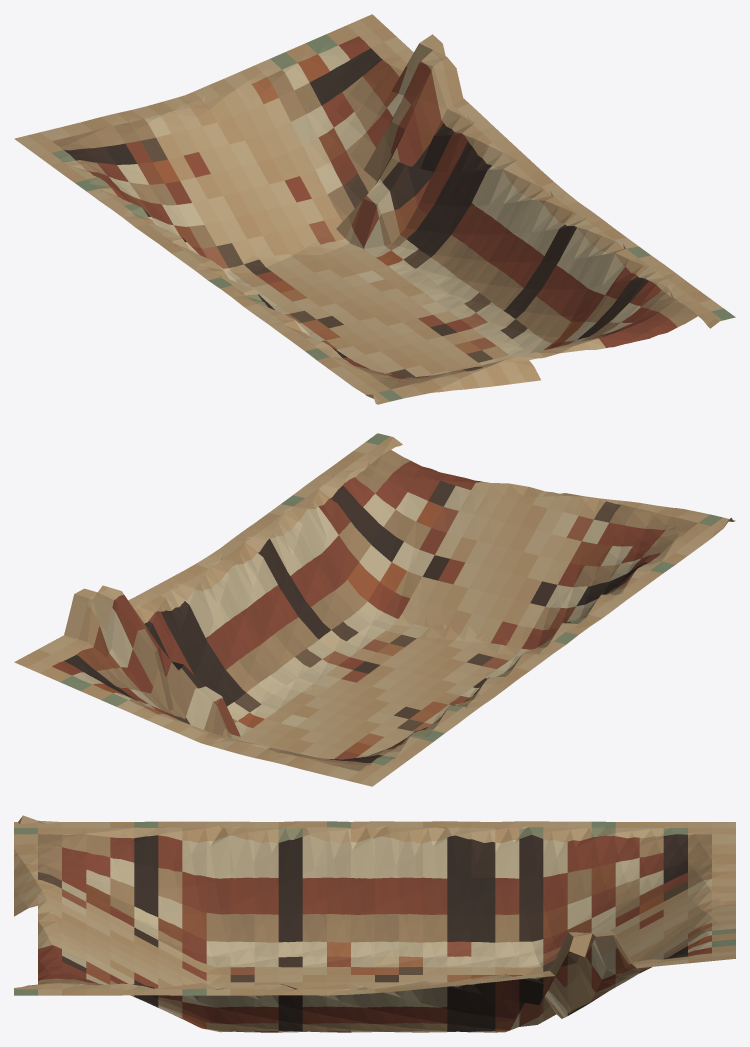
Rendered from liner_dump_wash_1.glb.
3 renders of one model, top to bottom at view 1: azimuth 30°, elevation 25°; view 2: azimuth 150°, elevation 25°; view 3: azimuth 270°, elevation 25°, orthographic.
Parts seen in each view (by area): view 1: liner_dump_wash_1_body; view 2: liner_dump_wash_1_body; view 3: liner_dump_wash_1_body.
Boxes of the visible parts, left/top/right/bottom form: liner_dump_wash_1_body: left=14, top=14, right=735, bottom=404; liner_dump_wash_1_body: left=14, top=433, right=735, bottom=786; liner_dump_wash_1_body: left=14, top=815, right=735, bottom=1032.
Bounding box in the file's own units: 42 × 16.85 × 73.8.
